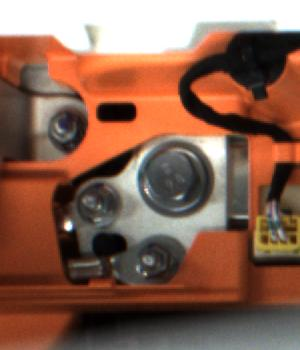nut_b: (131, 139, 218, 219)
